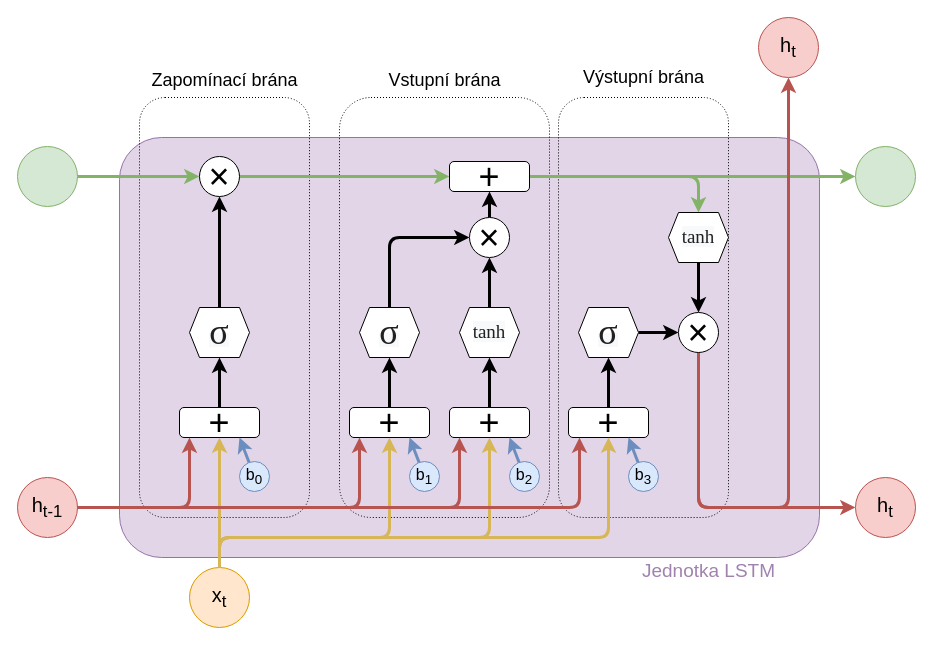
Image size: 933x645. Some labels were removed from this diagram. The shapes that lost their labels are listed below. From the top down, each one's centre as x and y in pixels, then its label:
[47,176]: C t-1
[885,176]: C t
